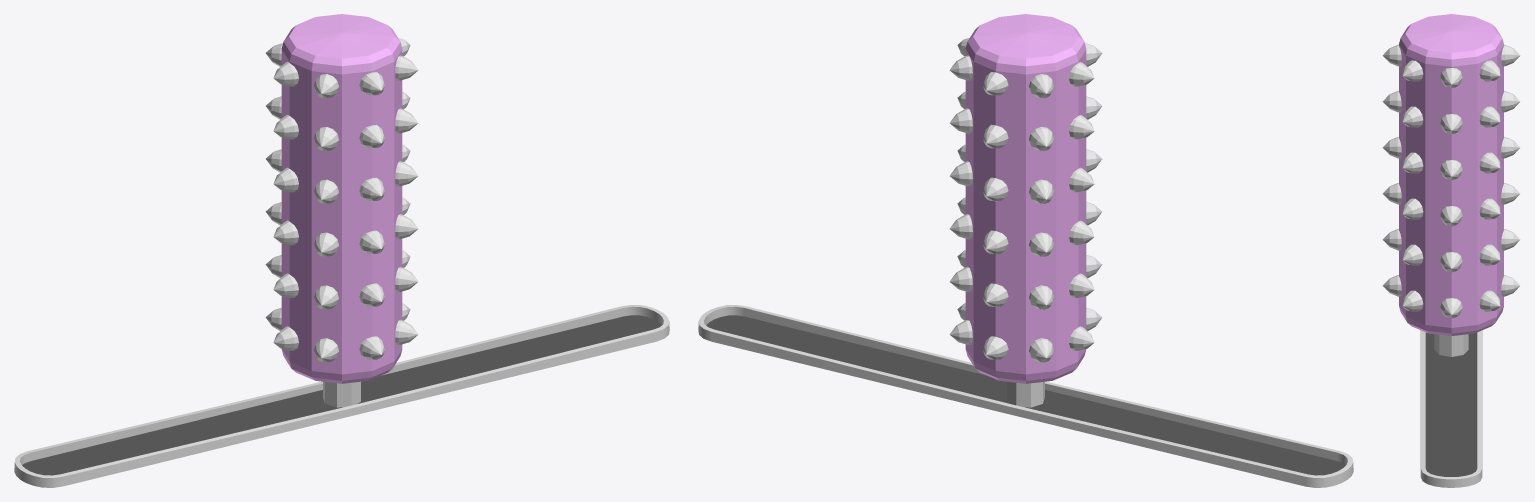
The model's file is Obstacle_42.fbx.
The picture shows the model from 3 angles, left to right: view 1: azimuth 30°, elevation 25°; view 2: azimuth 150°, elevation 25°; view 3: azimuth 270°, elevation 25°; orthographic projection. The views are drawn at different scales.
Visible parts, largest first — view 1: Quay, De; view 2: Quay, De; view 3: Quay, De.
Boxes of the visible parts, x1,y1,x2,y2 form: Quay: [265, 14, 418, 407]; De: [14, 305, 669, 487]; Quay: [949, 14, 1102, 407]; De: [698, 305, 1353, 487]; Quay: [1382, 14, 1520, 356]; De: [1420, 330, 1482, 487].
Size of the model in its own units: 5.5 by 3 by 1.17.
